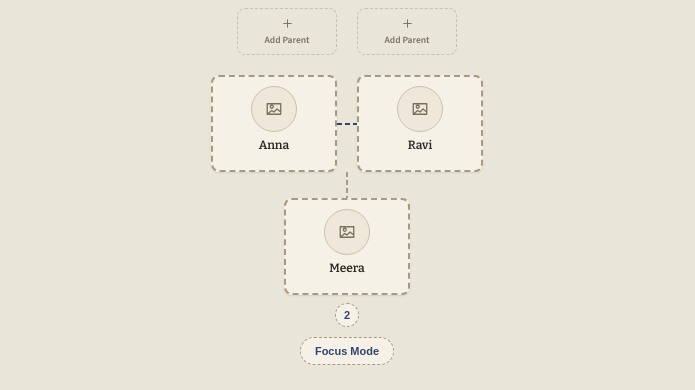
Test case: clicking the sibling flap reveals the siblings as separate columns, not nested under the owner
Click the button "2" at (347,315), box [335,303,359,327]
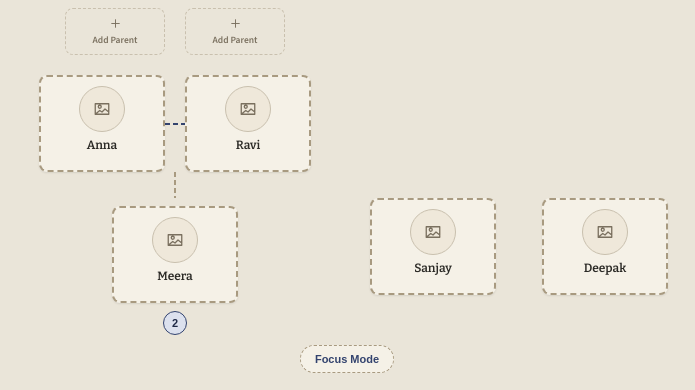
Expected: the text "Sanjay" is shown, [414,261,452,276]
Expected: the text "Deepak" is shown, [584,261,626,276]
